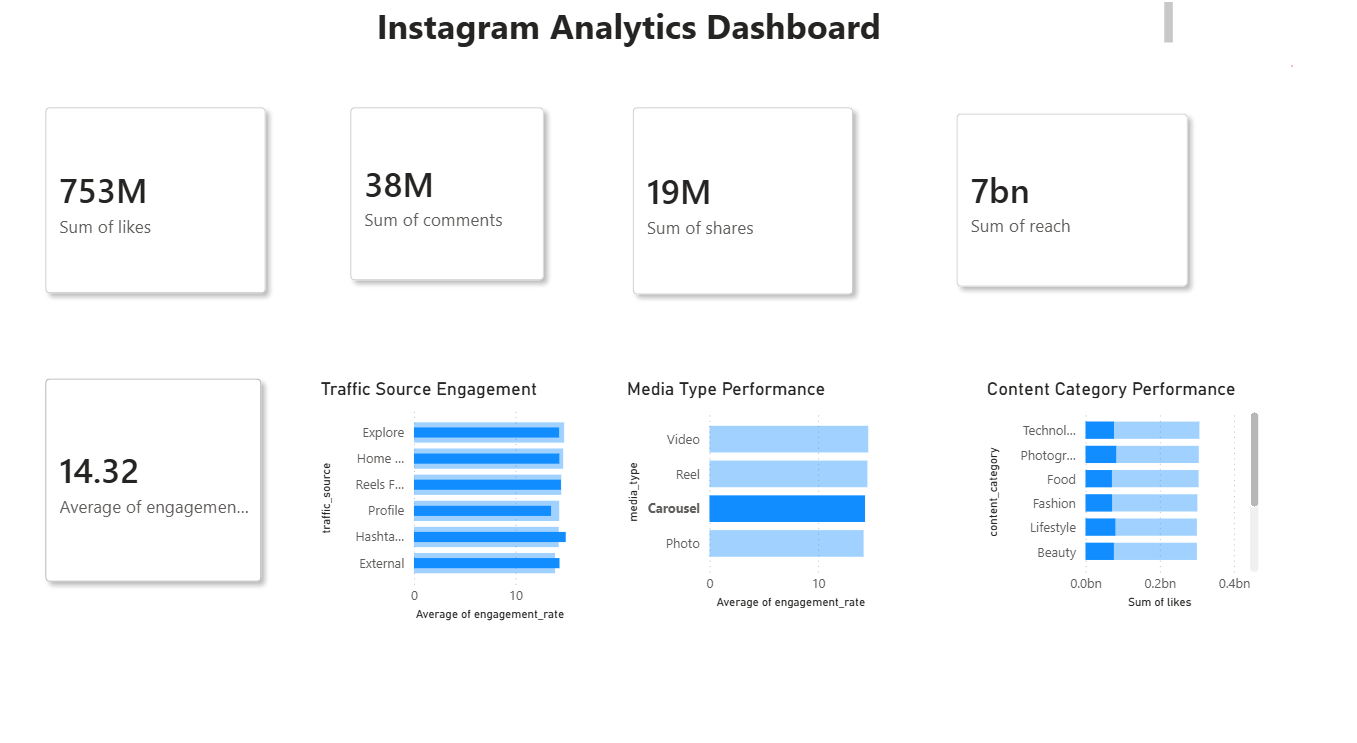

Layout of this report page (visuals, bound fields, positions):
{"tool":"powerbi","page":{"name":"Page 1","canvas":[1280,720],"ordinal":0},"visuals":[{"type":"cardVisual","fields":{"Data":["Sum(Instagram_Analytics.likes)"]},"box":[29.1,80.2,264,231.4],"z":0},{"type":"cardVisual","fields":{"Data":["Sum(Instagram_Analytics.comments)"]},"box":[337.2,62.8,238.4,237.2],"z":1},{"type":"cardVisual","fields":{"Data":["Sum(Instagram_Analytics.reach)"]},"box":[883.7,70.9,273.3,219.8],"z":2},{"type":"cardVisual","fields":{"Data":["Avg(Instagram_Analytics.engagement_rate)"]},"box":[29.1,332.6,259.3,247.7],"z":3},{"type":"cardVisual","fields":{"Data":["Sum(Instagram_Analytics.shares)"]},"box":[575.6,80.2,264,232.6],"z":4},{"type":"barChart","title":"Media Type Performance","fields":{"Category":["Instagram_Analytics.media_type"],"Y":["Avg(Instagram_Analytics.engagement_rate)"]},"box":[594.2,360.5,245.3,219.8],"z":5},{"type":"barChart","title":"Traffic Source Engagement","fields":{"Category":["Instagram_Analytics.traffic_source"],"Y":["Avg(Instagram_Analytics.engagement_rate)"]},"box":[309.3,360.5,245.3,231.4],"z":6},{"type":"barChart","title":"Content Category Performance","fields":{"Category":["Instagram_Analytics.content_category"],"Y":["Sum(Instagram_Analytics.likes)"]},"box":[929.1,360.5,262.8,219.8],"z":7},{"type":"textbox","box":[98.8,0,1012.8,62.8],"z":8}]}

Visuals, with their boxes in screenshot pixels (x1, y1, x2, y2), scaled from the page's 1280x720 canvas onto the 1357x743 screenshot:
cardVisual - Sum(Instagram_Analytics.likes): 31,83,311,322
cardVisual - Sum(Instagram_Analytics.comments): 357,65,610,310
cardVisual - Sum(Instagram_Analytics.reach): 937,73,1227,300
cardVisual - Avg(Instagram_Analytics.engagement_rate): 31,343,306,599
cardVisual - Sum(Instagram_Analytics.shares): 610,83,890,323
"Media Type Performance" barChart: 630,372,890,599
"Traffic Source Engagement" barChart: 328,372,588,611
"Content Category Performance" barChart: 985,372,1264,599
textbox: 105,0,1178,65
